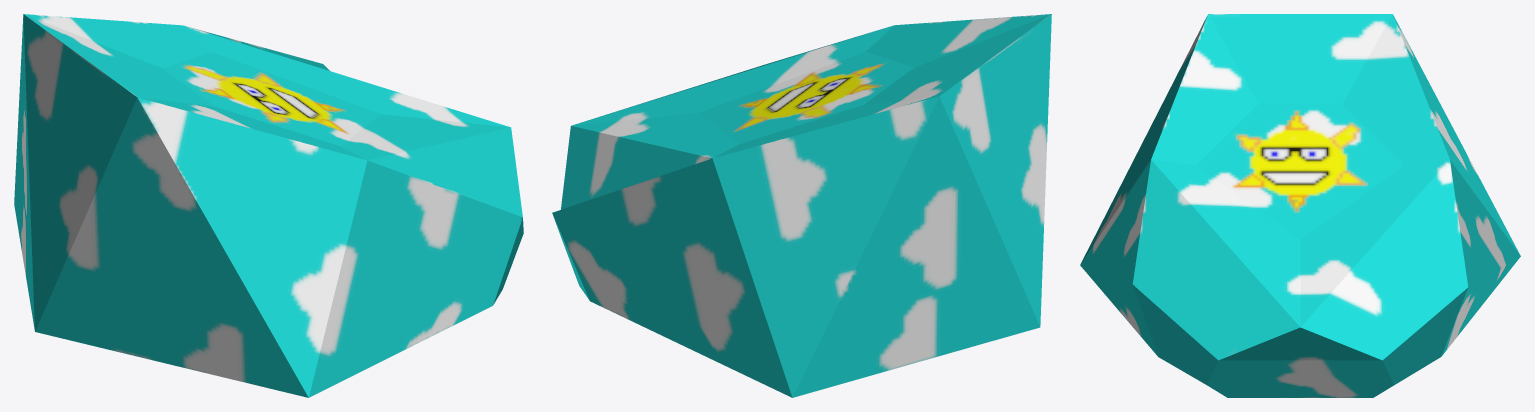
File: Day Stone.fbx
3 renders of one model, left to right at view 1: azimuth 30°, elevation 25°; view 2: azimuth 150°, elevation 25°; view 3: azimuth 270°, elevation 25°, orthographic. The views are drawn at different scales.
Parts seen in each view (by area): view 1: Day Stone; view 2: Day Stone; view 3: Day Stone.
Boxes of the visible parts, left/top/right/bottom form: Day Stone: left=14, top=14, right=523, bottom=397; Day Stone: left=552, top=14, right=1051, bottom=397; Day Stone: left=1080, top=14, right=1520, bottom=397.
Bounding box in the file's own units: 1.49 × 1.48 × 1.
